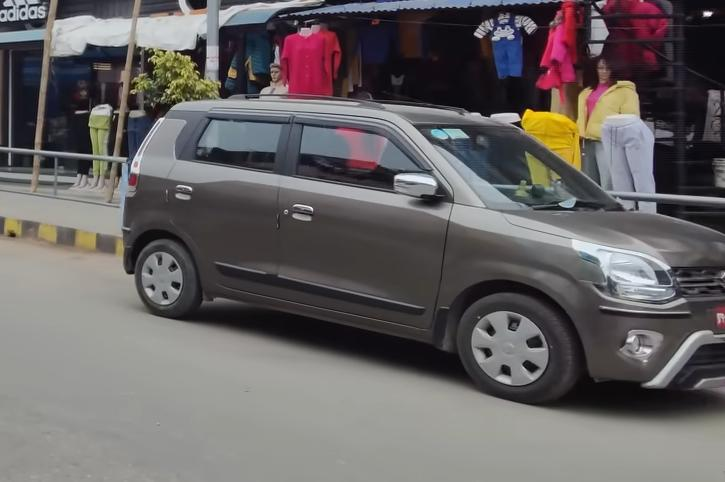car: (105, 70, 725, 408)
